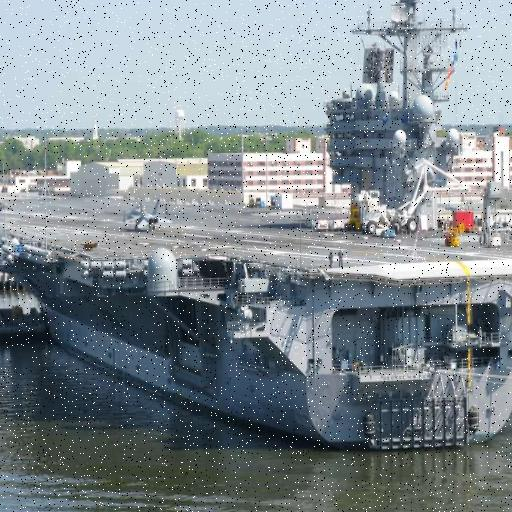Portanaves: (1, 1, 512, 456)
